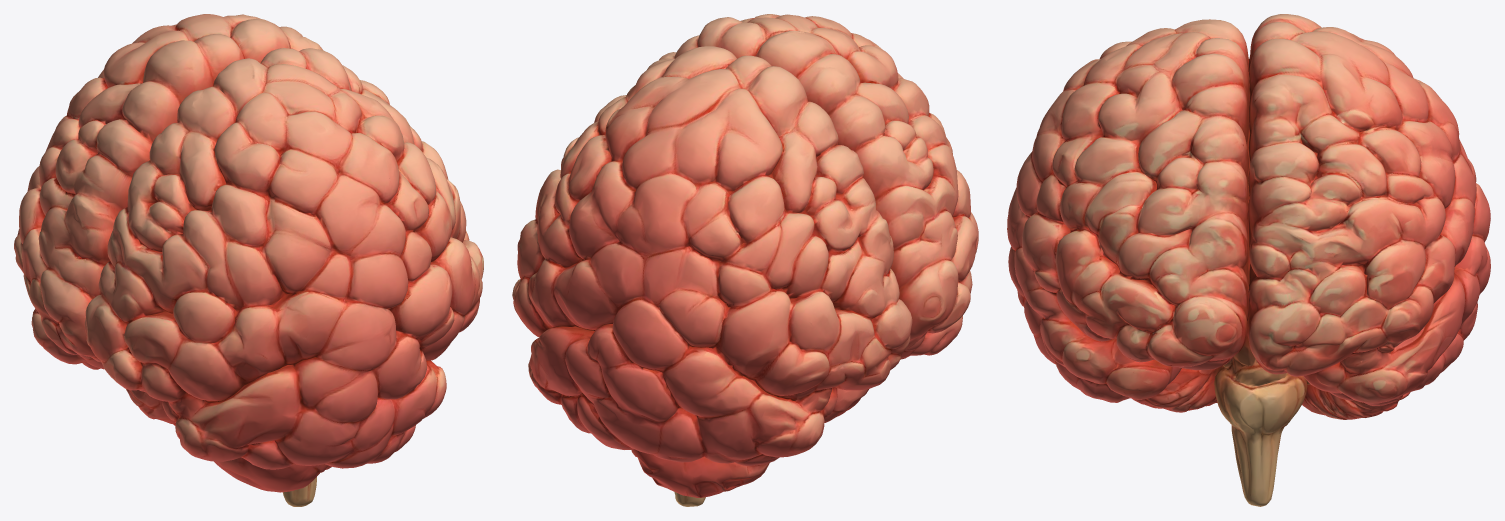
The picture shows the model from 3 angles, left to right: view 1: azimuth 30°, elevation 25°; view 2: azimuth 150°, elevation 25°; view 3: azimuth 270°, elevation 25°; orthographic projection. The views are drawn at different scales.
Visible parts, largest first — view 1: tripo_node_9122238c-547d-4ddb-8936-2fe098286db7; view 2: tripo_node_9122238c-547d-4ddb-8936-2fe098286db7; view 3: tripo_node_9122238c-547d-4ddb-8936-2fe098286db7.
Part boxes in pixels (bbox=[...]): tripo_node_9122238c-547d-4ddb-8936-2fe098286db7: bbox=[14, 14, 483, 506]; tripo_node_9122238c-547d-4ddb-8936-2fe098286db7: bbox=[512, 14, 978, 506]; tripo_node_9122238c-547d-4ddb-8936-2fe098286db7: bbox=[1007, 14, 1490, 506].
Size of the model in its own units: 0.806 by 1 by 0.9765.
1 material, 1 textured.
